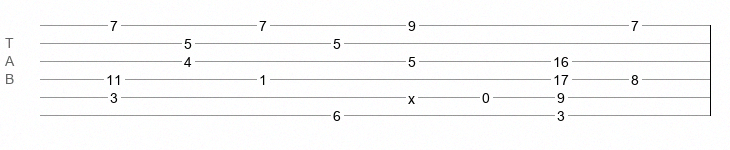0: (482, 90, 490, 100)
1: (259, 72, 267, 82)
11: (106, 72, 122, 82)
16: (553, 54, 569, 64)
17: (553, 72, 569, 82)
3: (110, 90, 118, 100), (557, 108, 565, 118)
4: (184, 54, 192, 64)
5: (184, 36, 192, 46), (333, 36, 341, 46), (408, 54, 416, 64)
6: (333, 108, 341, 118)
7: (110, 18, 118, 28), (259, 18, 267, 28), (631, 18, 639, 28)
8: (631, 72, 639, 82)
9: (408, 18, 416, 28), (557, 90, 565, 100)
x: (408, 91, 415, 99)
